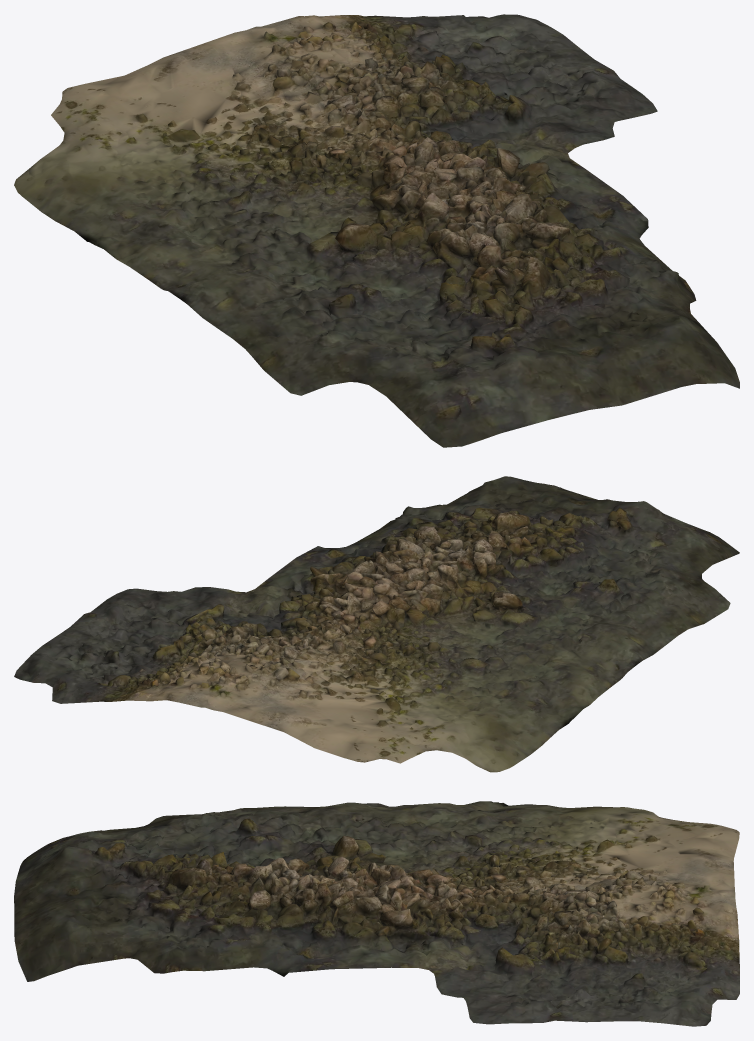
The model's file is rock_outcrop.glb.
The picture shows the model from 3 angles, top to bottom: view 1: azimuth 30°, elevation 25°; view 2: azimuth 150°, elevation 25°; view 3: azimuth 270°, elevation 25°; orthographic projection. The views are drawn at different scales.
Parts seen in each view (by area): view 1: coast_rocks_03; view 2: coast_rocks_03; view 3: coast_rocks_03.
Boxes of the visible parts, box(x1,y1,x2,y2) form: coast_rocks_03: box(14, 14, 739, 447); coast_rocks_03: box(14, 476, 739, 772); coast_rocks_03: box(14, 801, 739, 1026).
Bounding box in the file's own units: 21.12 × 3.2 × 28.27.
Materials: 1 (1 with a texture image).
